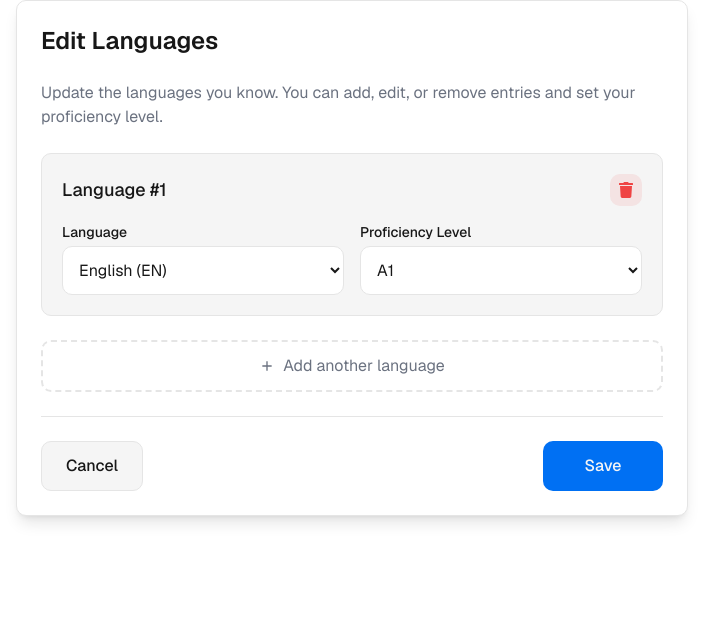
Test: EditLanguagesForm Component › Przesyłanie i aktualizacja danych › powinien zapisać dane do API i przekierować po 1.5s
Select "C1" in the dropdown labelled "Proficiency Level" at coordinates (501, 270), box [360,246,642,295]
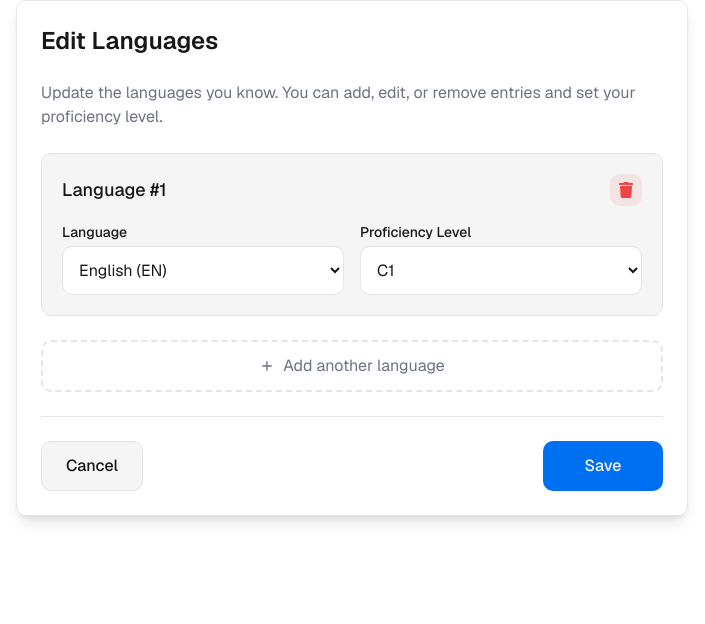
Click the button "Save" at coordinates (603, 466), box [543,441,663,491]
Wait 1500 ms
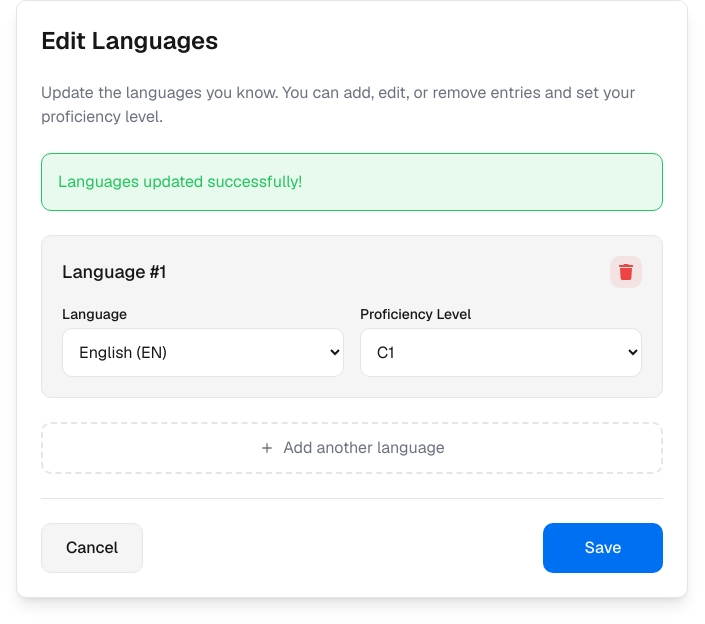
Result: the text "Languages updated successfully!" is shown at [41,153,663,211]
